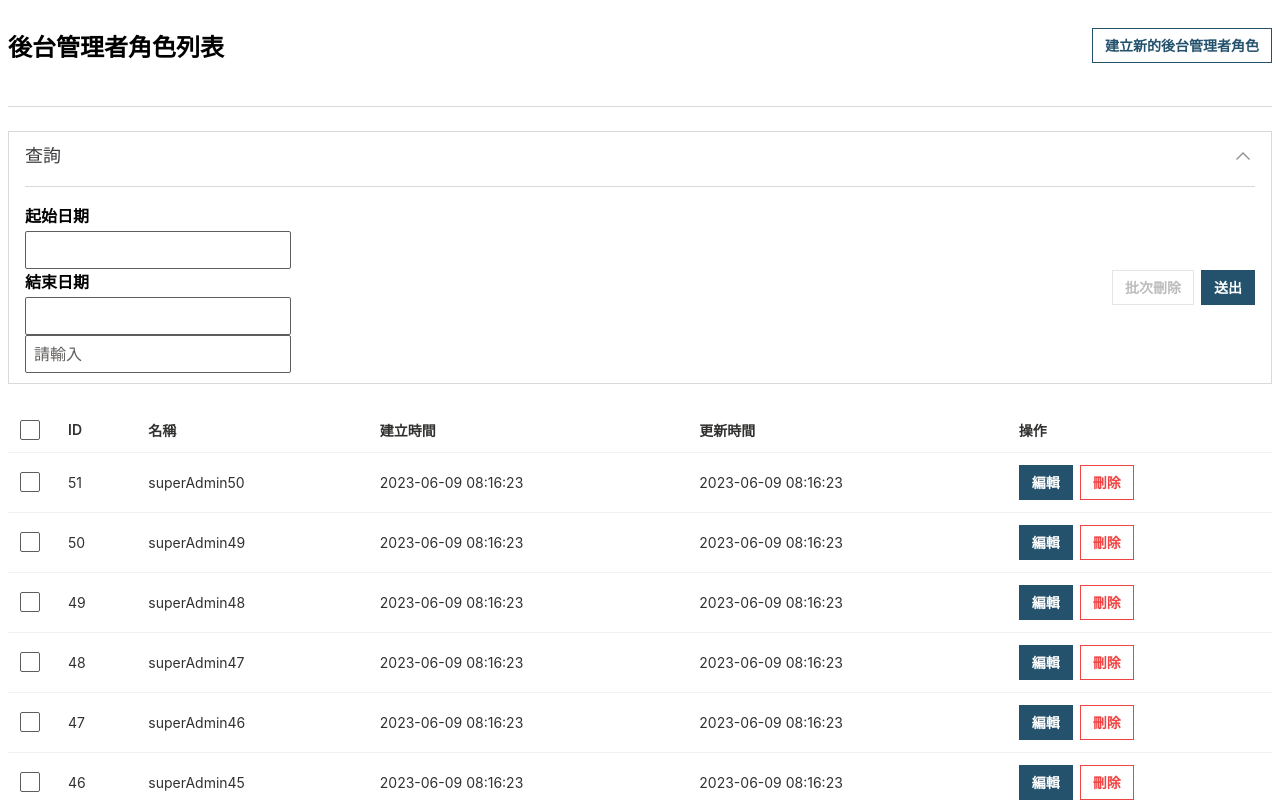
Test case: ContentListPage › Role Page › should be disabled after clicking  confirm button
Click the checkbox named "Select 51" at (30, 482), box [20, 472, 40, 492]
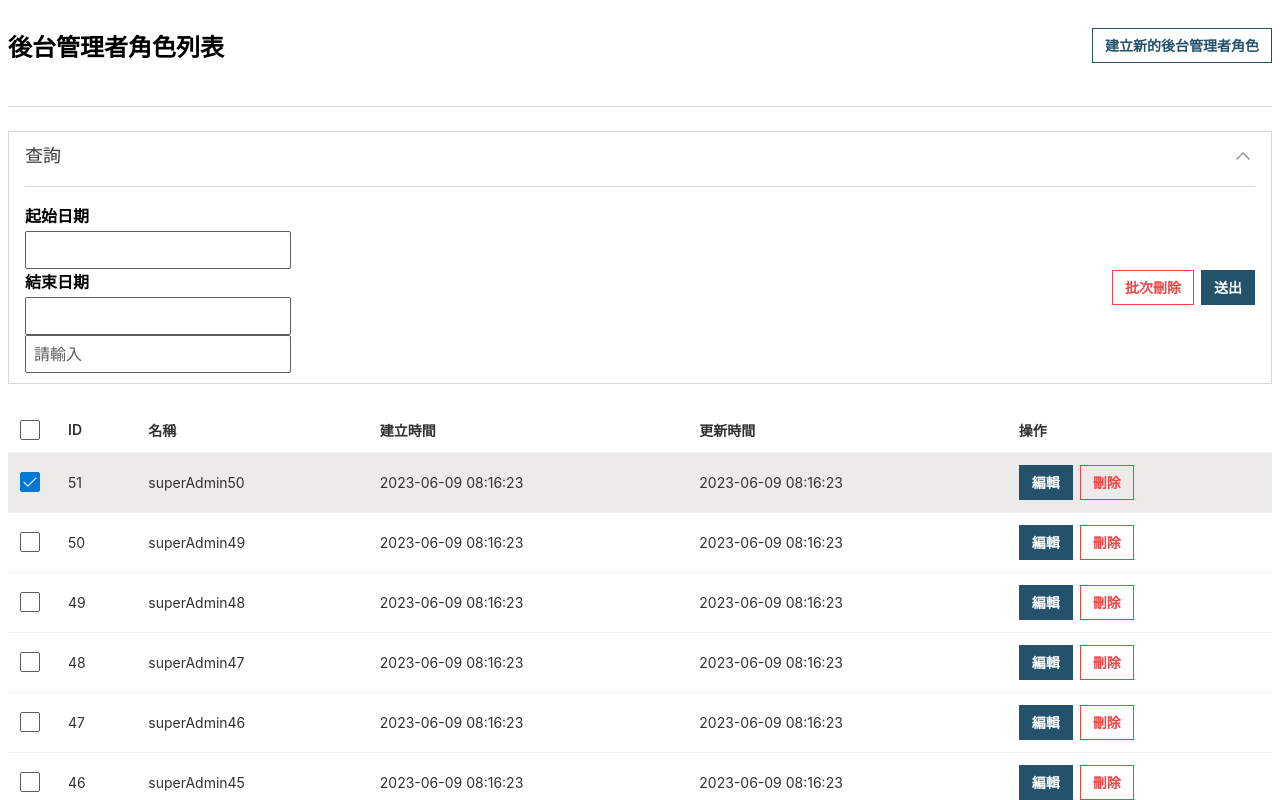
Click the checkbox named "Select 50" at (30, 542), box [20, 532, 40, 552]
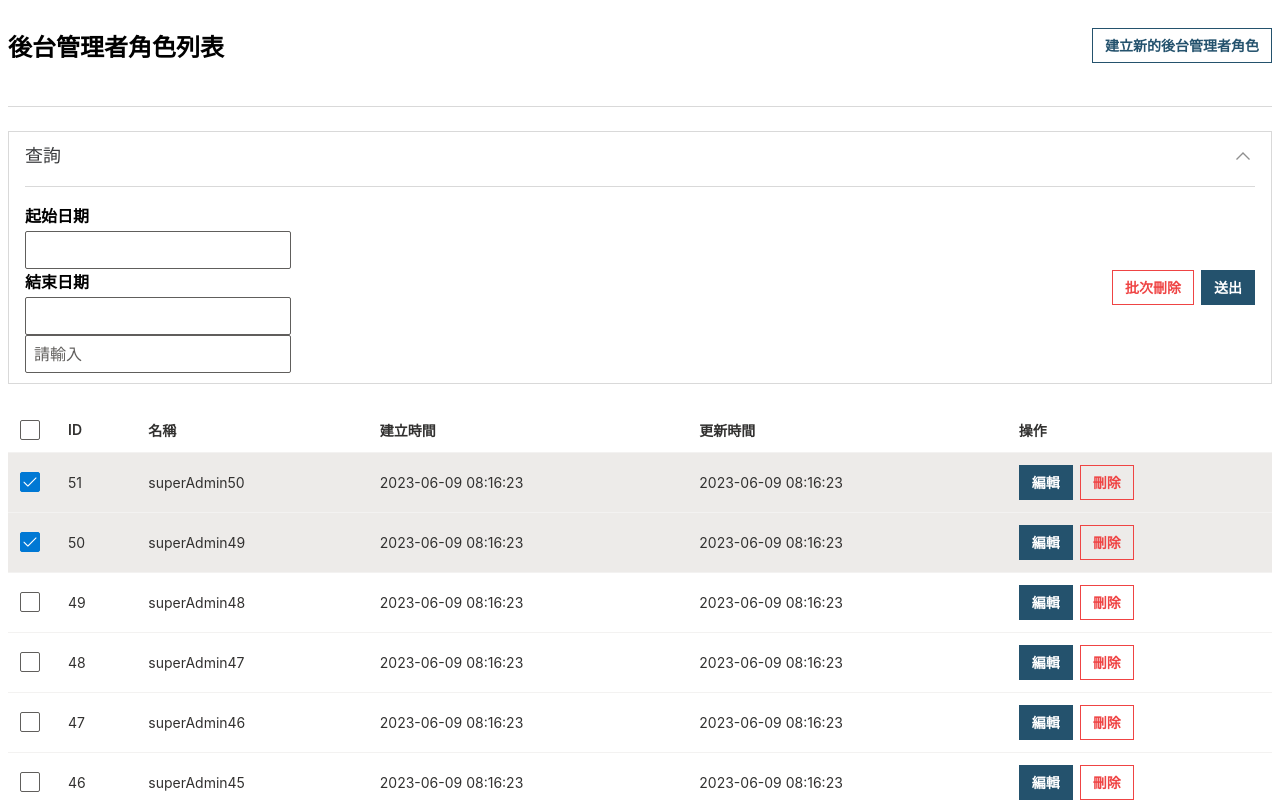
Result: the button "批次刪除" is enabled
Click the button "批次刪除" at (1153, 288), box [1112, 270, 1194, 305]
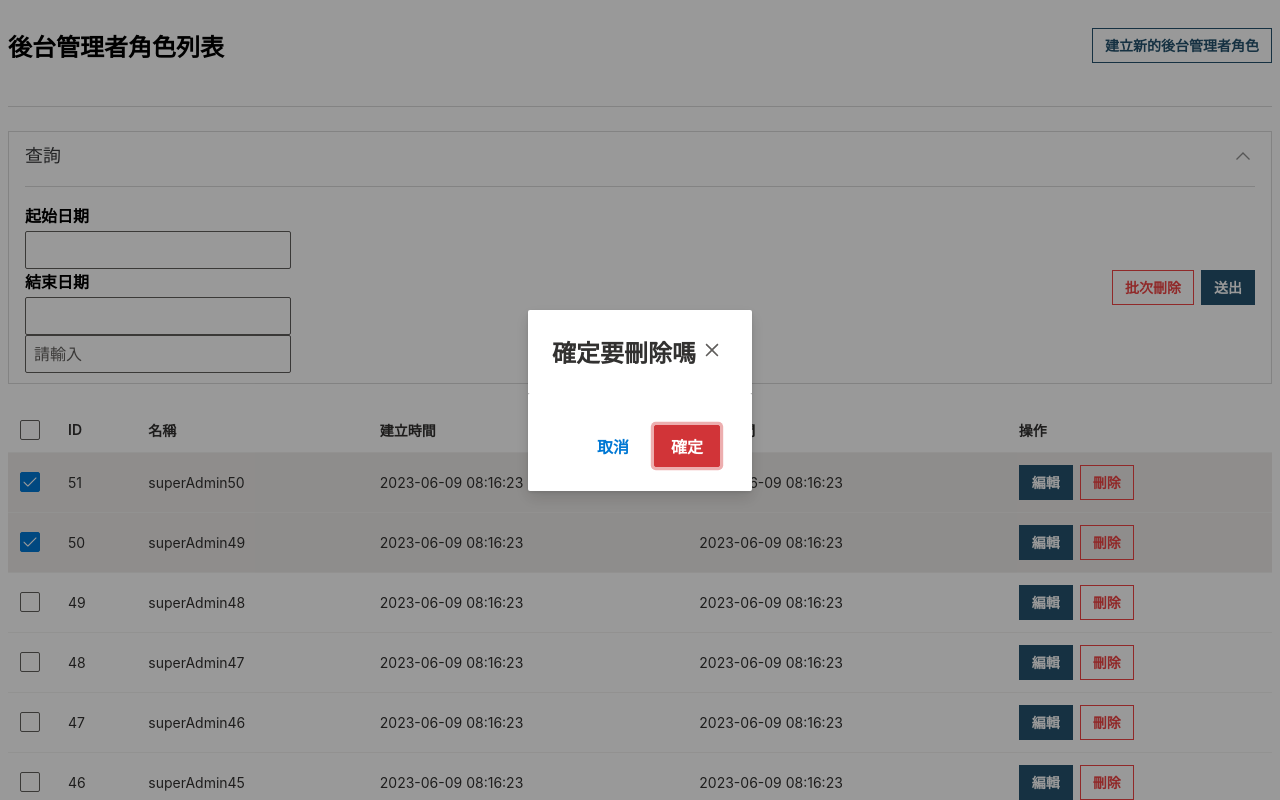
Result: the button "確定" is shown
Click the button "確定" at (687, 446), box [654, 424, 720, 466]
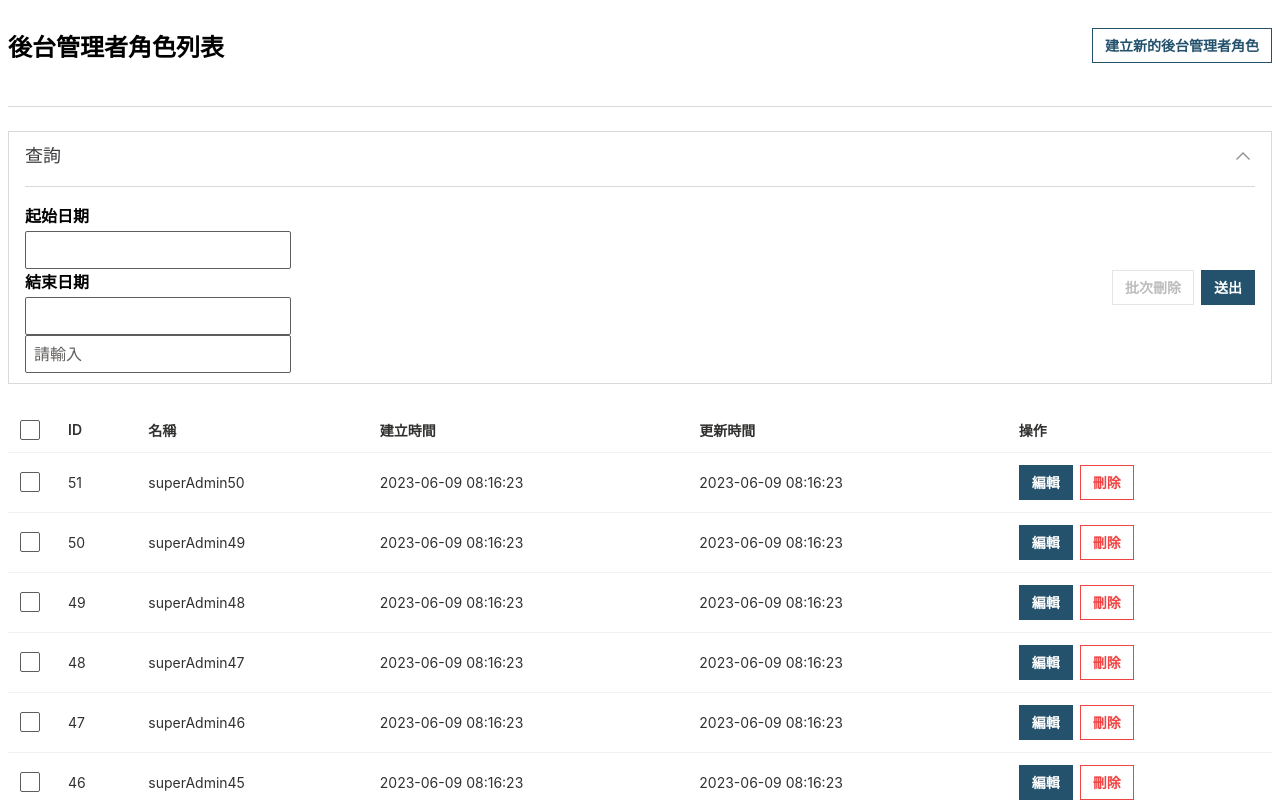
Result: the button "批次刪除" is disabled at [1112, 270, 1194, 305]
